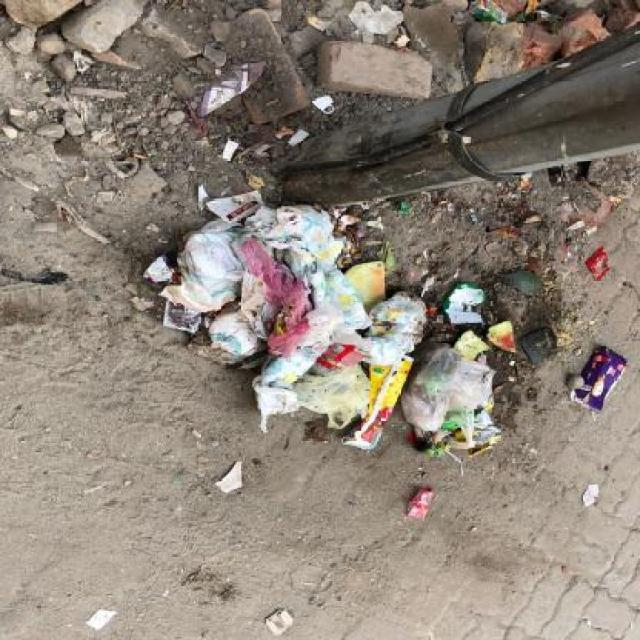garbage: (139, 179, 542, 456), (182, 57, 346, 162), (568, 342, 639, 420), (339, 3, 415, 44), (569, 243, 629, 277), (62, 49, 114, 86), (399, 475, 438, 524)
